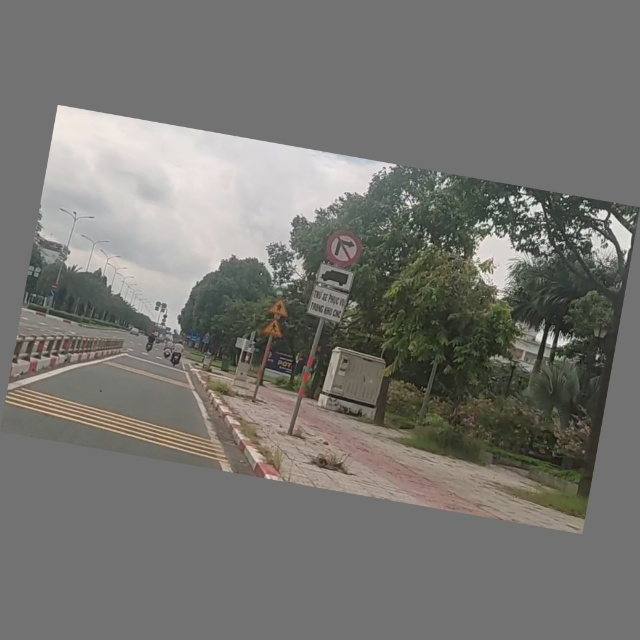P.123b: (320, 226, 365, 269)
S.505a*Xe tai va cong: (305, 262, 353, 325)
W.207: (266, 294, 293, 319)
W.224: (260, 317, 287, 340)
